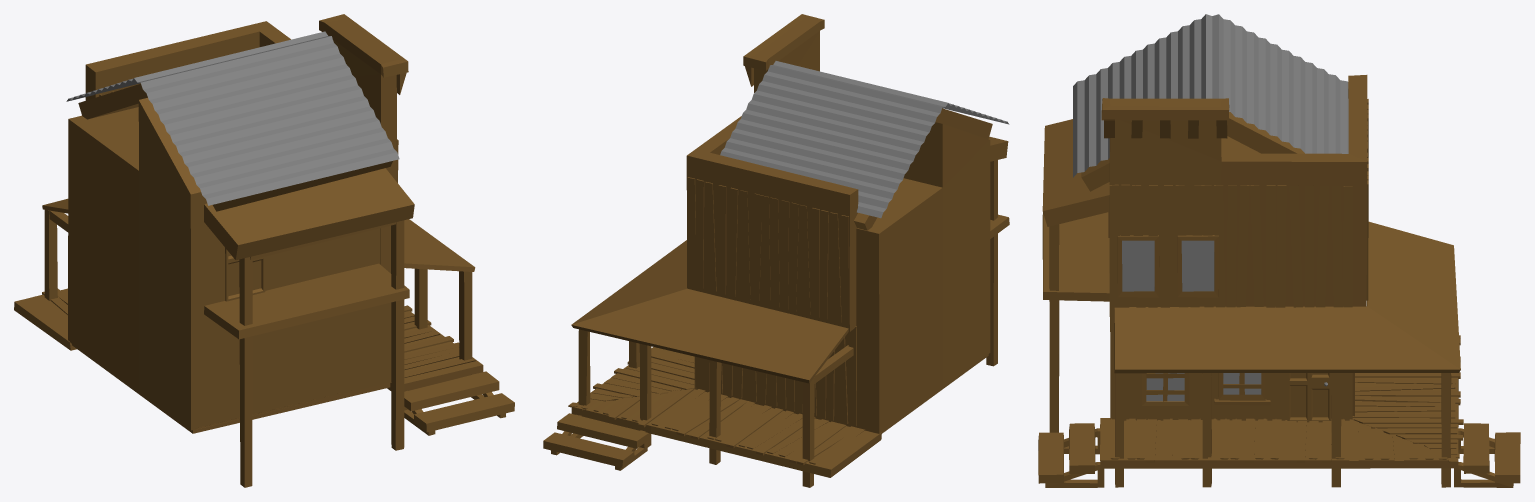
The model's file is casa1.fbx.
3 renders of one model, left to right at view 1: azimuth 30°, elevation 25°; view 2: azimuth 150°, elevation 25°; view 3: azimuth 270°, elevation 25°, orthographic. The views are drawn at different scales.
Parts seen in each view (by area): view 1: estermo, interno; view 2: estermo, interno; view 3: estermo, interno.
Boxes of the visible parts, box(x1,y1,x2,y2) form: estermo: box(42, 14, 514, 487); interno: box(14, 288, 483, 433); estermo: box(543, 14, 1009, 487); interno: box(568, 347, 988, 477); estermo: box(1038, 14, 1520, 487); interno: box(1100, 335, 1463, 468).
Bounding box in the file's own units: 290 × 341 × 420.
